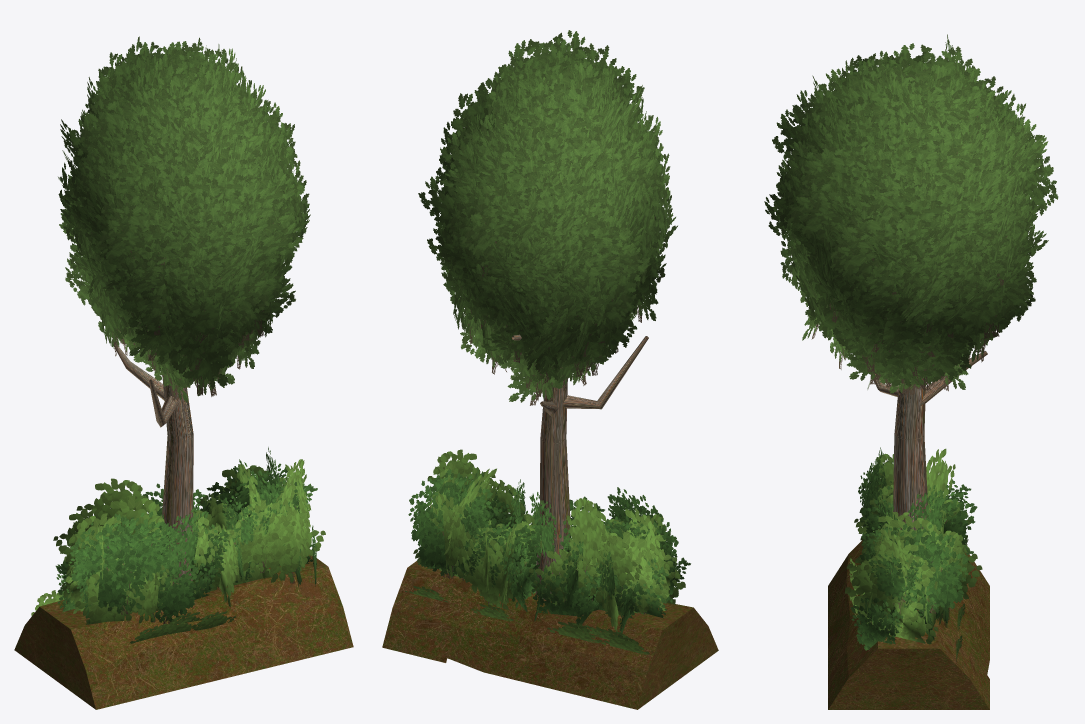
File: hack_bocage_med_trad_a.glb
The picture shows the model from 3 angles, left to right: view 1: azimuth 30°, elevation 25°; view 2: azimuth 150°, elevation 25°; view 3: azimuth 270°, elevation 25°; orthographic projection.
Parts seen in each view (by area): view 1: hack_bocage_med_trad_a; view 2: hack_bocage_med_trad_a; view 3: hack_bocage_med_trad_a.
Part boxes in pixels (x1,y1,x2,y2): hack_bocage_med_trad_a: [14, 36, 353, 709]; hack_bocage_med_trad_a: [382, 30, 718, 709]; hack_bocage_med_trad_a: [764, 34, 1058, 709].
Bounding box in the file's own units: 4 × 9 × 4.4.
1 material, 1 textured.
